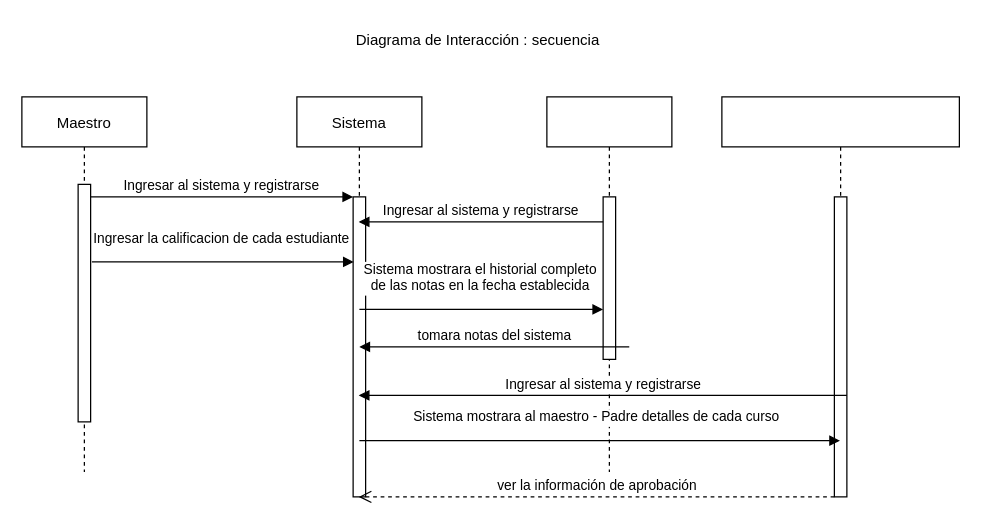
Some shapes in this 981 by 531 pixel diagram are drawn without their labels. The shapes that lost their labels are listed below. From the top down, each one's box as (x1, y1, x2, y2) in pixels, then its label:
(546, 96, 672, 472): Maestro Guia
(721, 96, 959, 497): Padre / Ministerio Educacion
